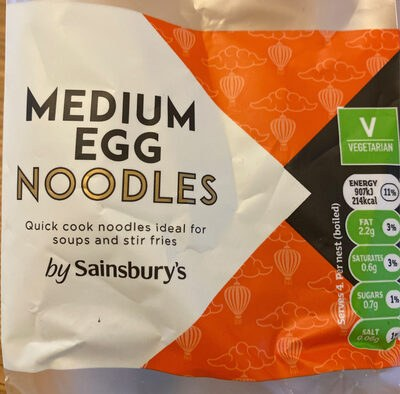Medium Egg Noodles: (20, 20, 380, 374)
